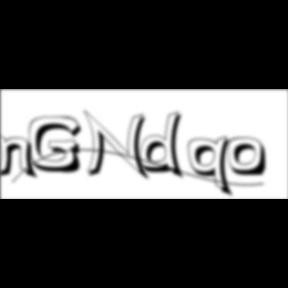G: (30, 116, 88, 176)
N: (84, 109, 154, 183)
d: (139, 110, 189, 182)
n: (0, 132, 42, 181)
o: (228, 137, 270, 179)
q: (189, 135, 238, 200)
